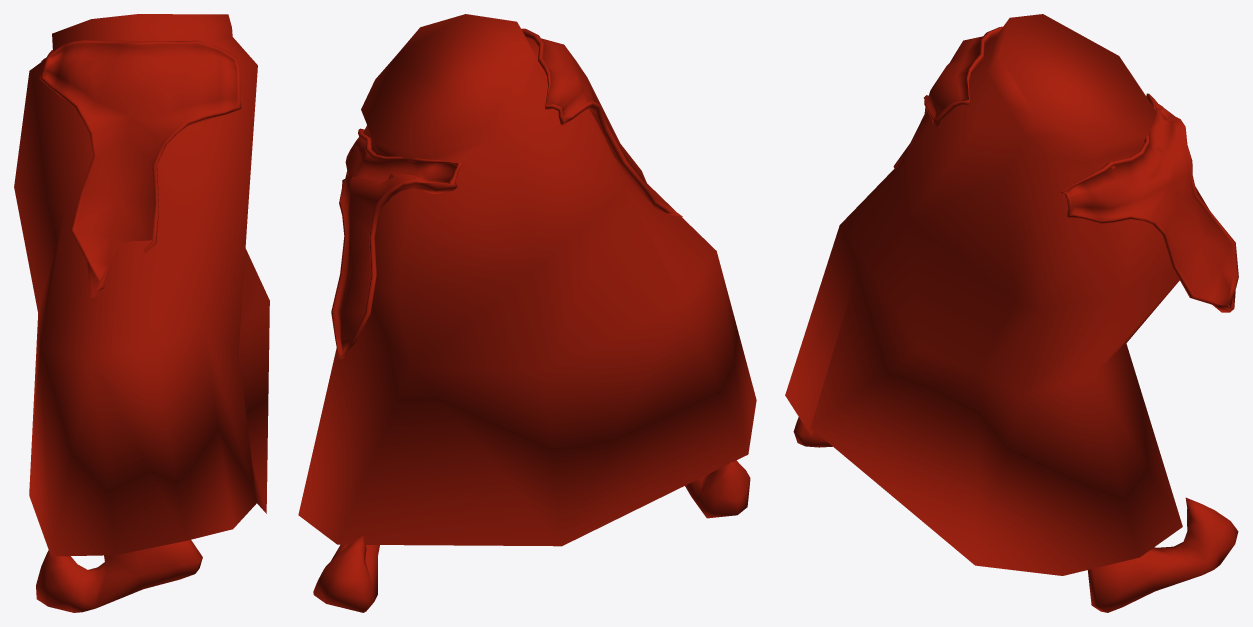
The model's file is bot_000072.obj.
The picture shows the model from 3 angles, left to right: view 1: azimuth 30°, elevation 25°; view 2: azimuth 150°, elevation 25°; view 3: azimuth 270°, elevation 25°; orthographic projection. The views are drawn at different scales.
Parts seen in each view (by area): view 1: LowPoly_Warlock.004_Plane.004; view 2: LowPoly_Warlock.004_Plane.004; view 3: LowPoly_Warlock.004_Plane.004.
Part boxes in pixels (left/top/right/bottom): LowPoly_Warlock.004_Plane.004: left=14, top=14, right=269, bottom=612; LowPoly_Warlock.004_Plane.004: left=298, top=14, right=756, bottom=612; LowPoly_Warlock.004_Plane.004: left=785, top=14, right=1238, bottom=612.
Size of the model in its own units: 0.6805 by 1.15 by 0.8772.
